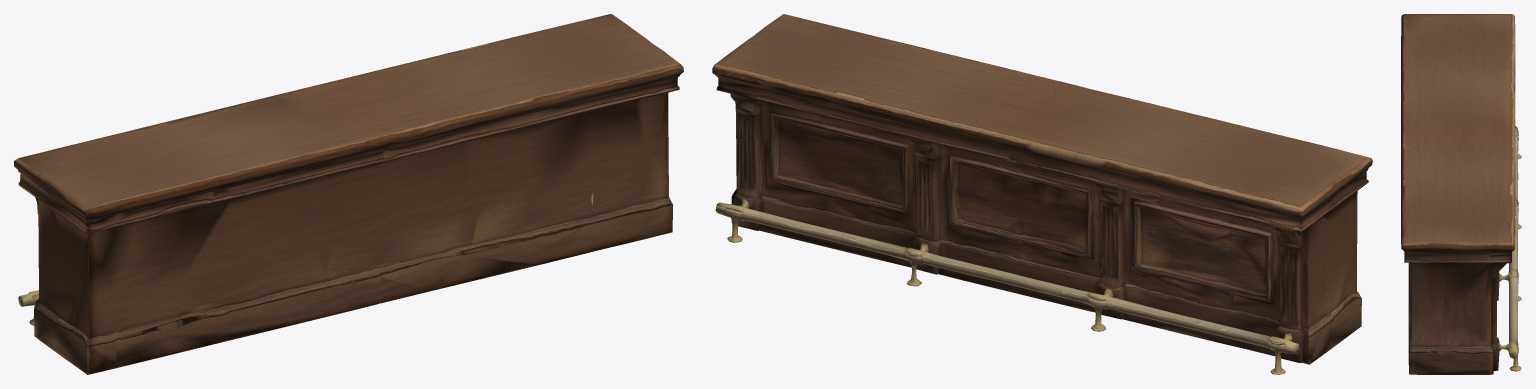
The model's file is bar_counter.glb.
3 renders of one model, left to right at view 1: azimuth 30°, elevation 25°; view 2: azimuth 150°, elevation 25°; view 3: azimuth 270°, elevation 25°, orthographic. The views are drawn at different scales.
Visible parts, largest first — view 1: tripo_node_b8225324-0915-4ed3-a162-f83bf89a5a8c; view 2: tripo_node_b8225324-0915-4ed3-a162-f83bf89a5a8c; view 3: tripo_node_b8225324-0915-4ed3-a162-f83bf89a5a8c.
Boxes of the visible parts, <box> form: tripo_node_b8225324-0915-4ed3-a162-f83bf89a5a8c: <box>14,14,683,374</box>; tripo_node_b8225324-0915-4ed3-a162-f83bf89a5a8c: <box>712,14,1372,374</box>; tripo_node_b8225324-0915-4ed3-a162-f83bf89a5a8c: <box>1401,14,1521,374</box>.
Size of the model in its own units: 0.9784 by 0.2688 by 0.2171.
Materials: 1 (1 with a texture image).
